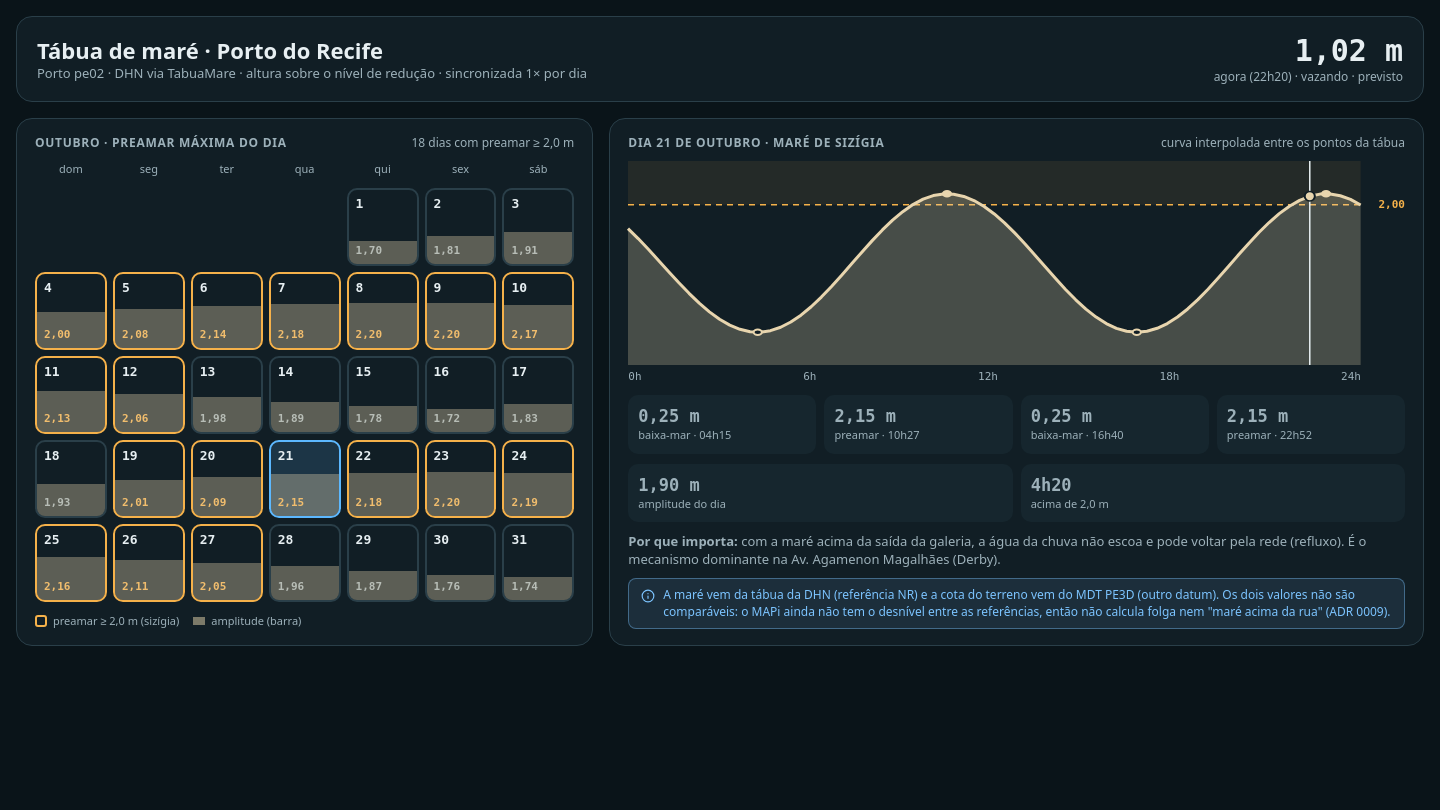
TidePage › escolher um dia do calendário troca a curva e o título
The width and height of the screenshot is (1440, 810).
Step 1. Click the button "1 1,70" → (383, 227), box 347,188 -> 418,266
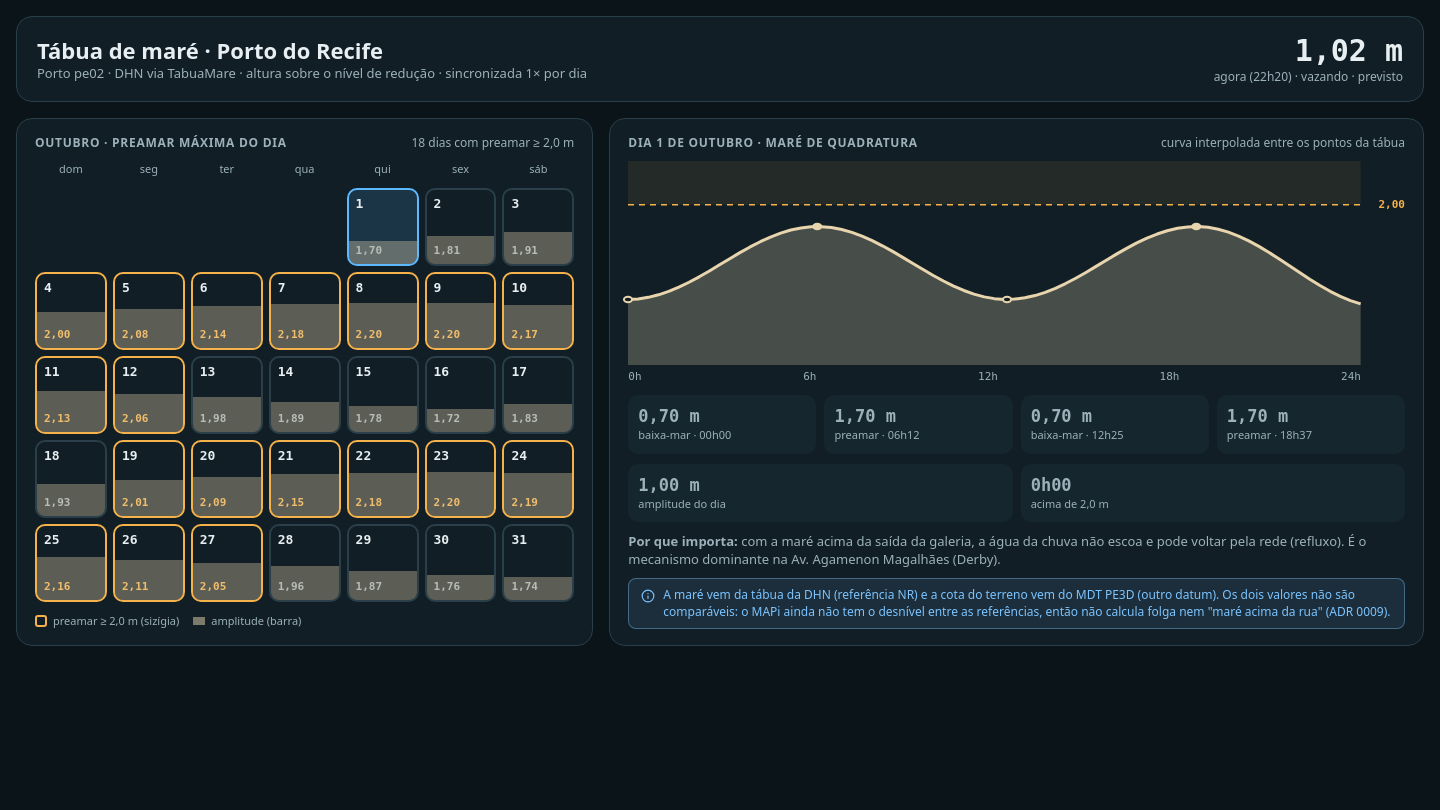
Check: the element named "Curva do dia" shows "DIA 1 DE", box 628,134 -> 918,151
